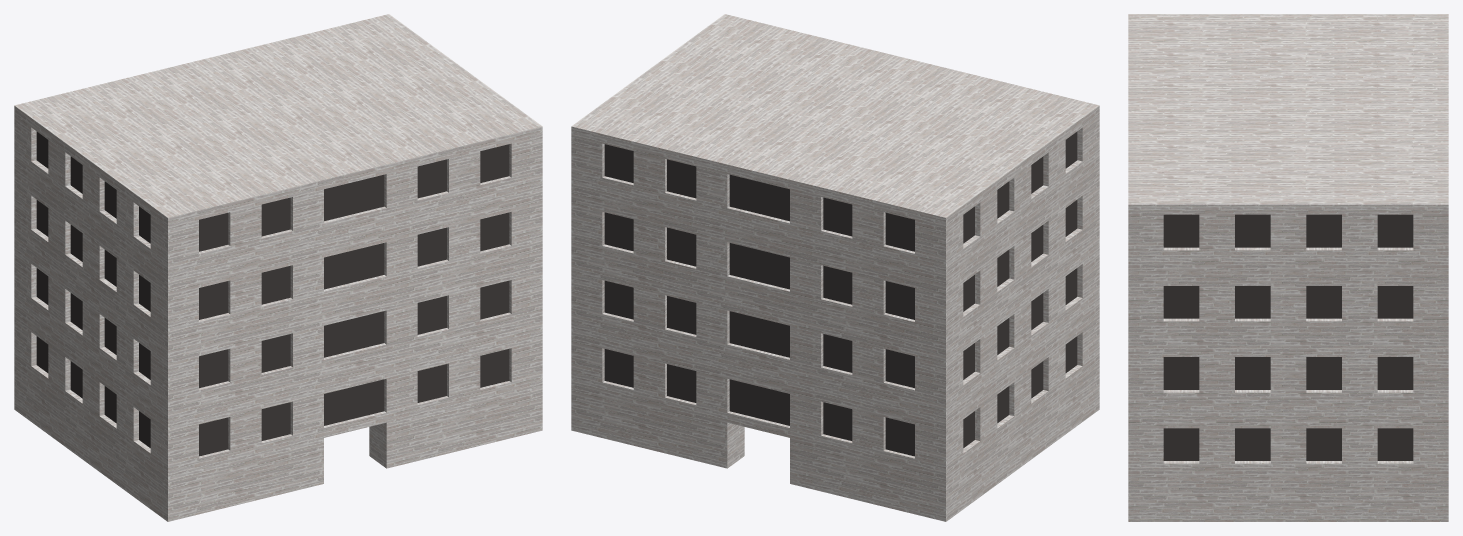
Rendered from Building_BigDoubleDoors.glb.
3 views of the same model, side by side, from view 1: azimuth 30°, elevation 25°; view 2: azimuth 150°, elevation 25°; view 3: azimuth 270°, elevation 25° (orthographic). The views are drawn at different scales.
Parts seen in each view (by area): view 1: BigDoubleDoors; view 2: BigDoubleDoors; view 3: BigDoubleDoors.
Part boxes in pixels (x1,y1,x2,y2): BigDoubleDoors: [14, 14, 542, 521]; BigDoubleDoors: [571, 14, 1099, 521]; BigDoubleDoors: [1128, 14, 1448, 521].
Size of the model in its own units: 51.11 by 39.62 by 36.29.
Materials: 3 (1 with a texture image).
